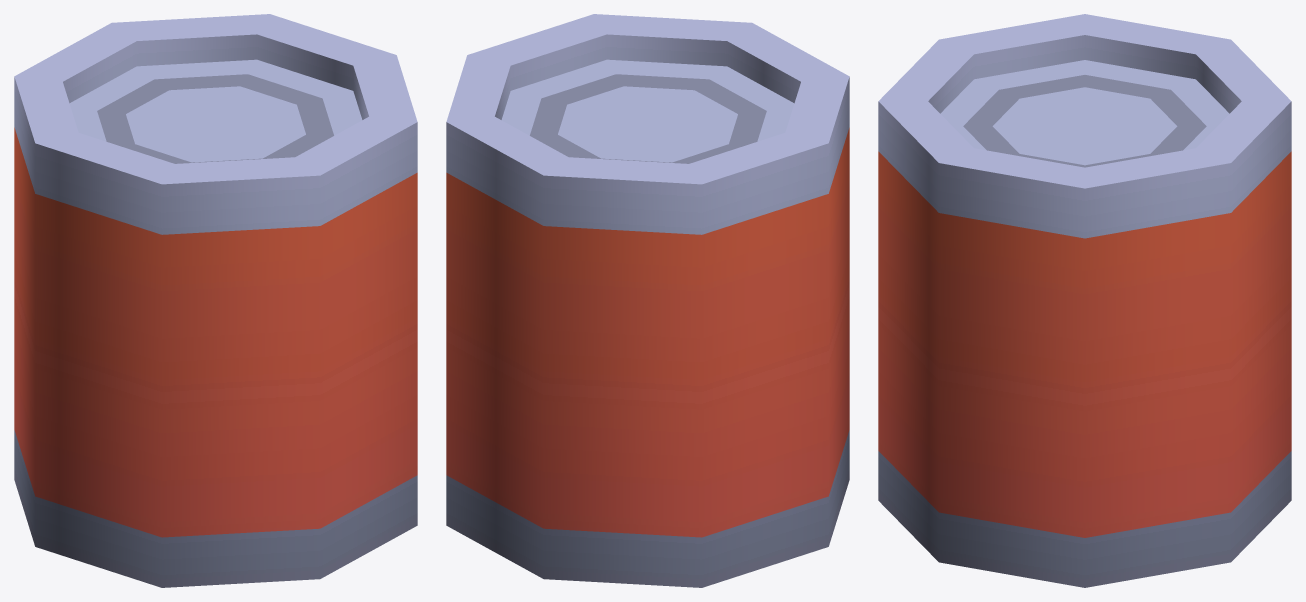
File: can.glb
The picture shows the model from 3 angles, left to right: view 1: azimuth 30°, elevation 25°; view 2: azimuth 150°, elevation 25°; view 3: azimuth 270°, elevation 25°; orthographic projection.
Parts seen in each view (by area): view 1: can; view 2: can; view 3: can.
Boxes of the visible parts, bbox=[...] form: can: bbox=[14, 14, 417, 587]; can: bbox=[446, 14, 849, 587]; can: bbox=[878, 14, 1291, 587].
Size of the model in its own units: 0.3 by 0.32 by 0.3.
Materials: 1 (1 with a texture image).
